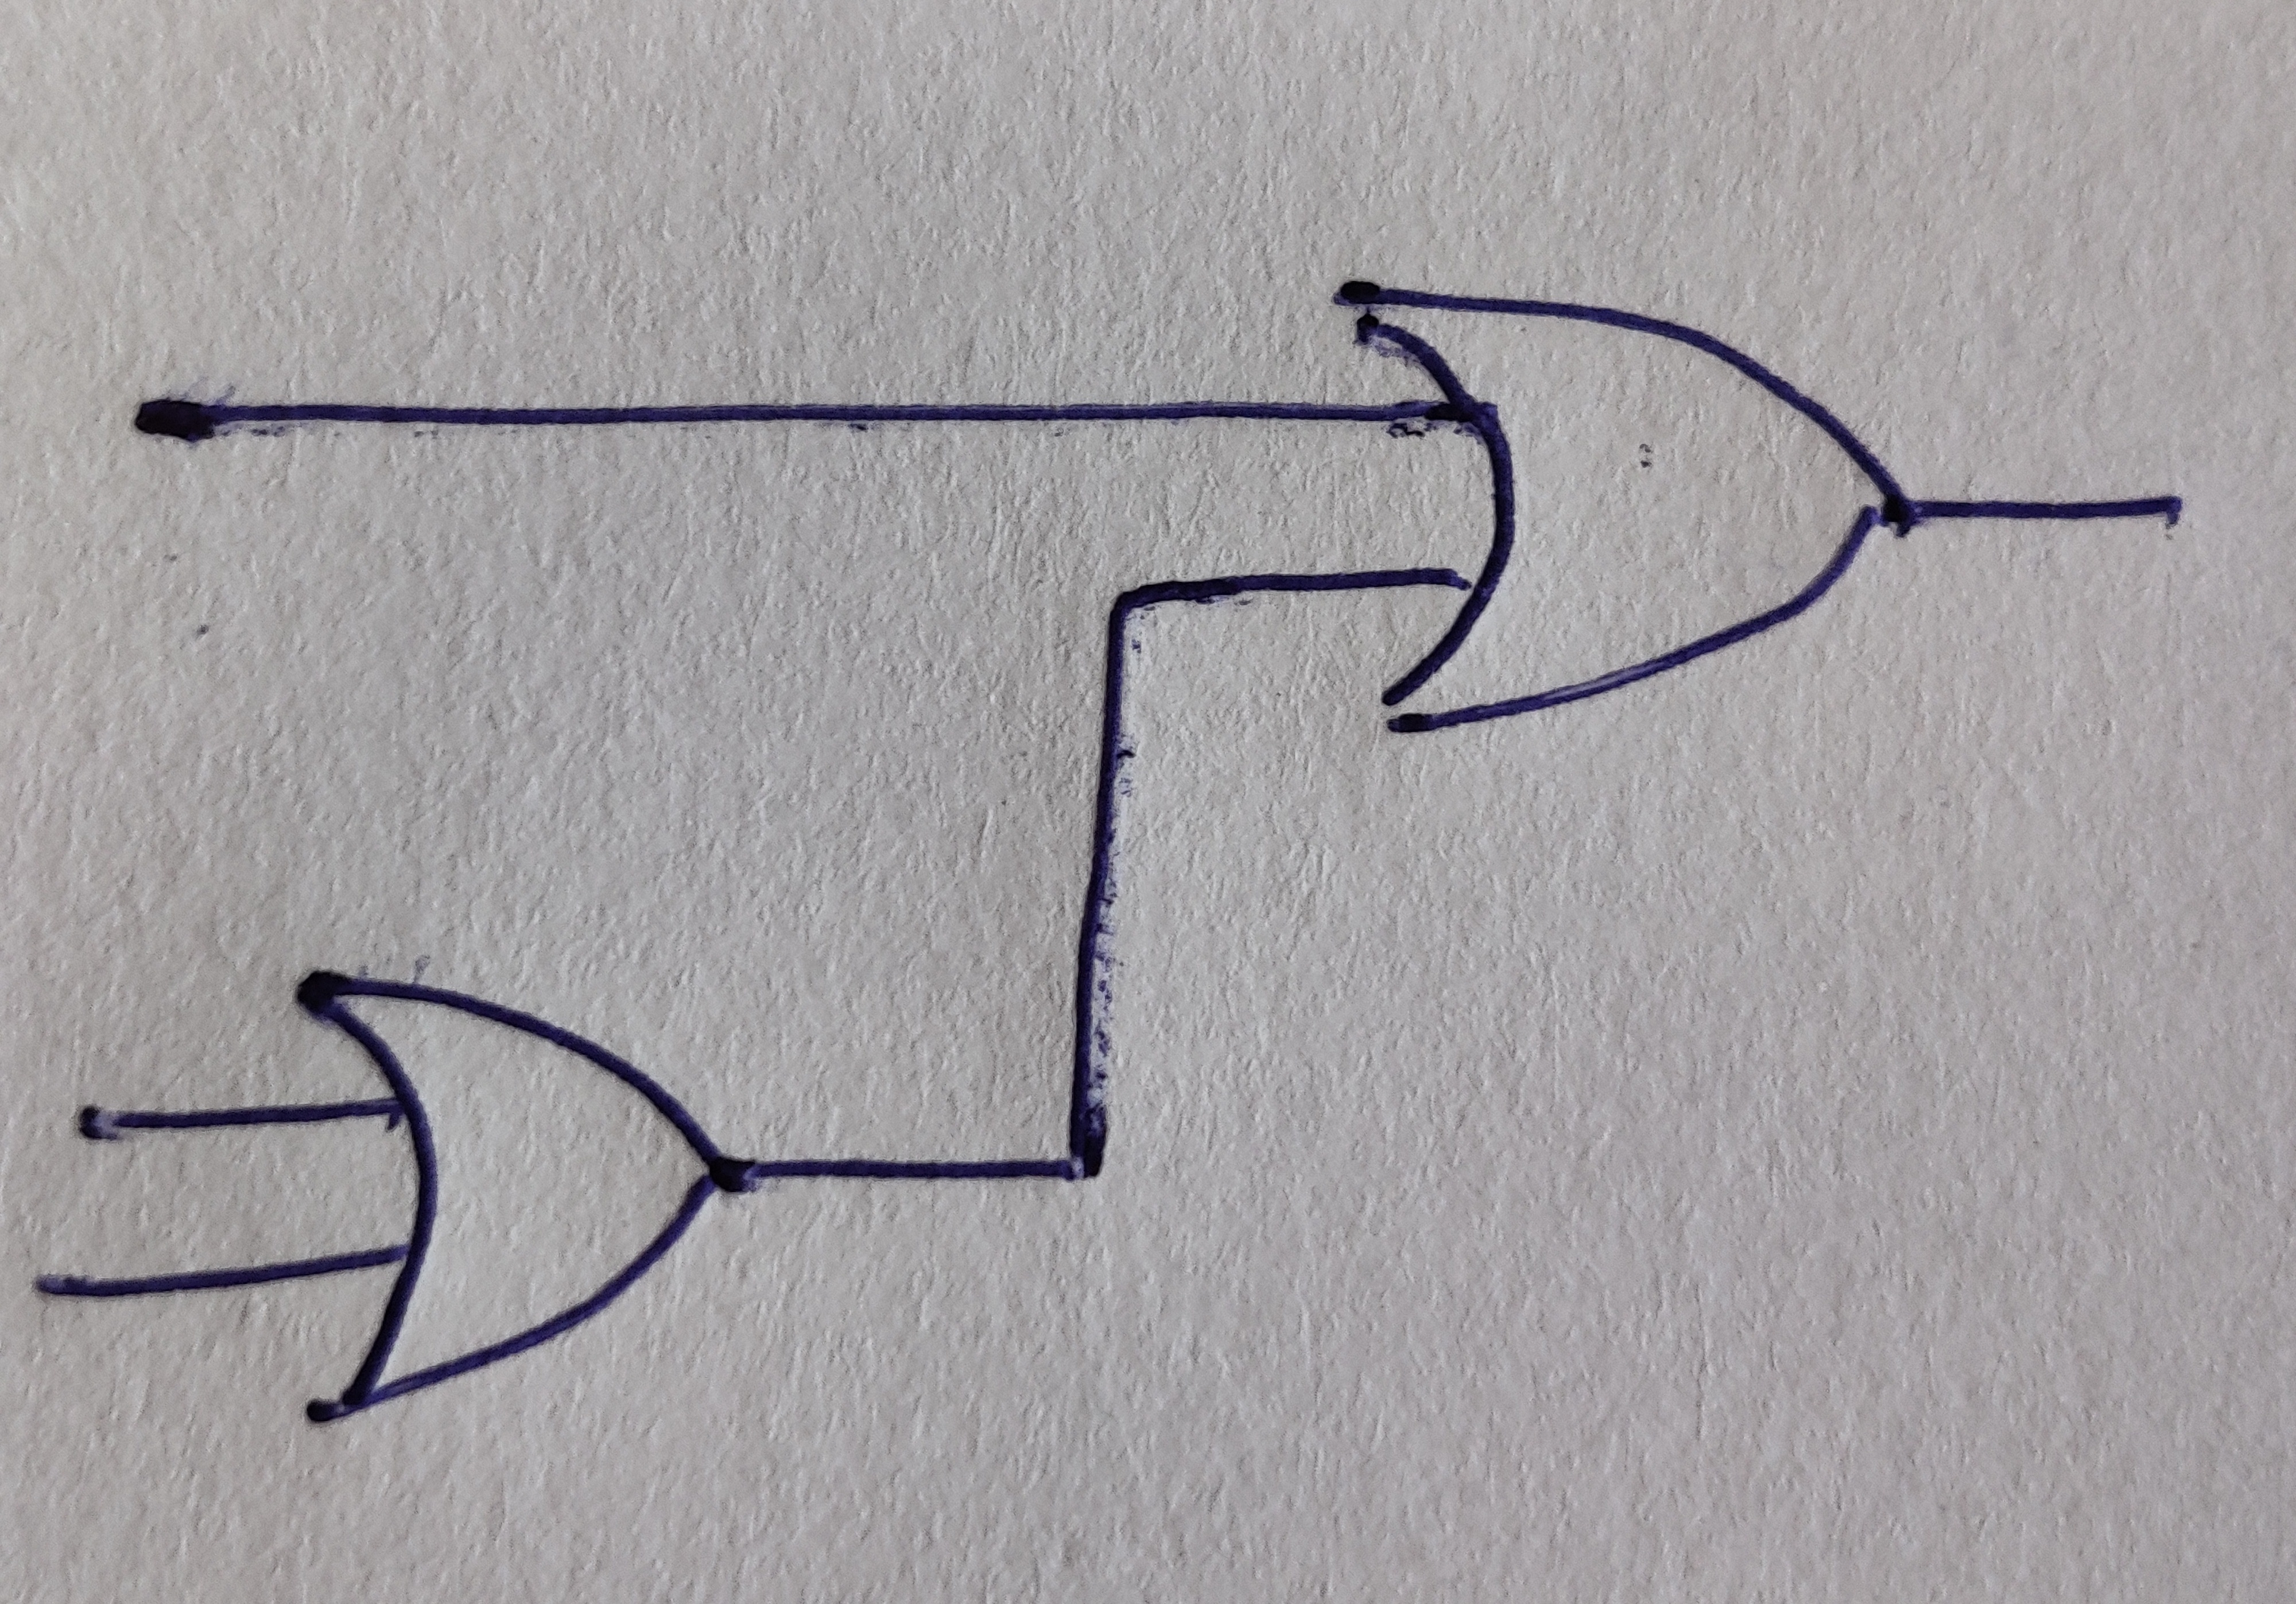or: (1329, 281, 1910, 732), (295, 969, 729, 1428)
